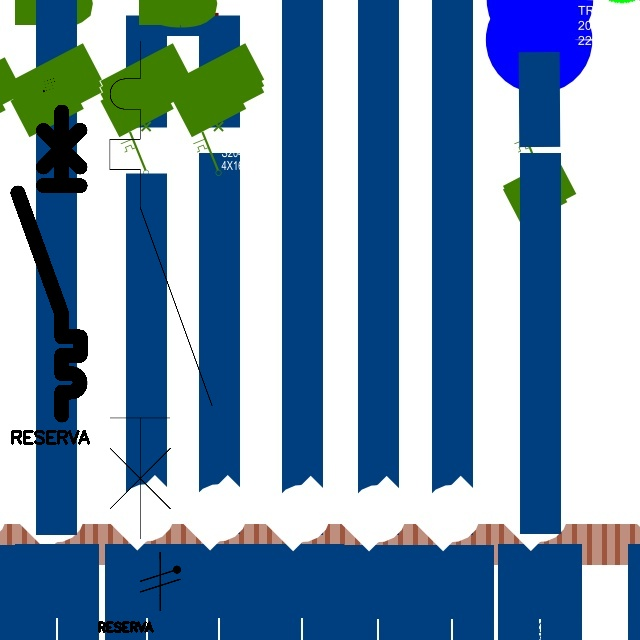interruptor_termomagnetico: (97, 28, 225, 551), (10, 104, 88, 423)
